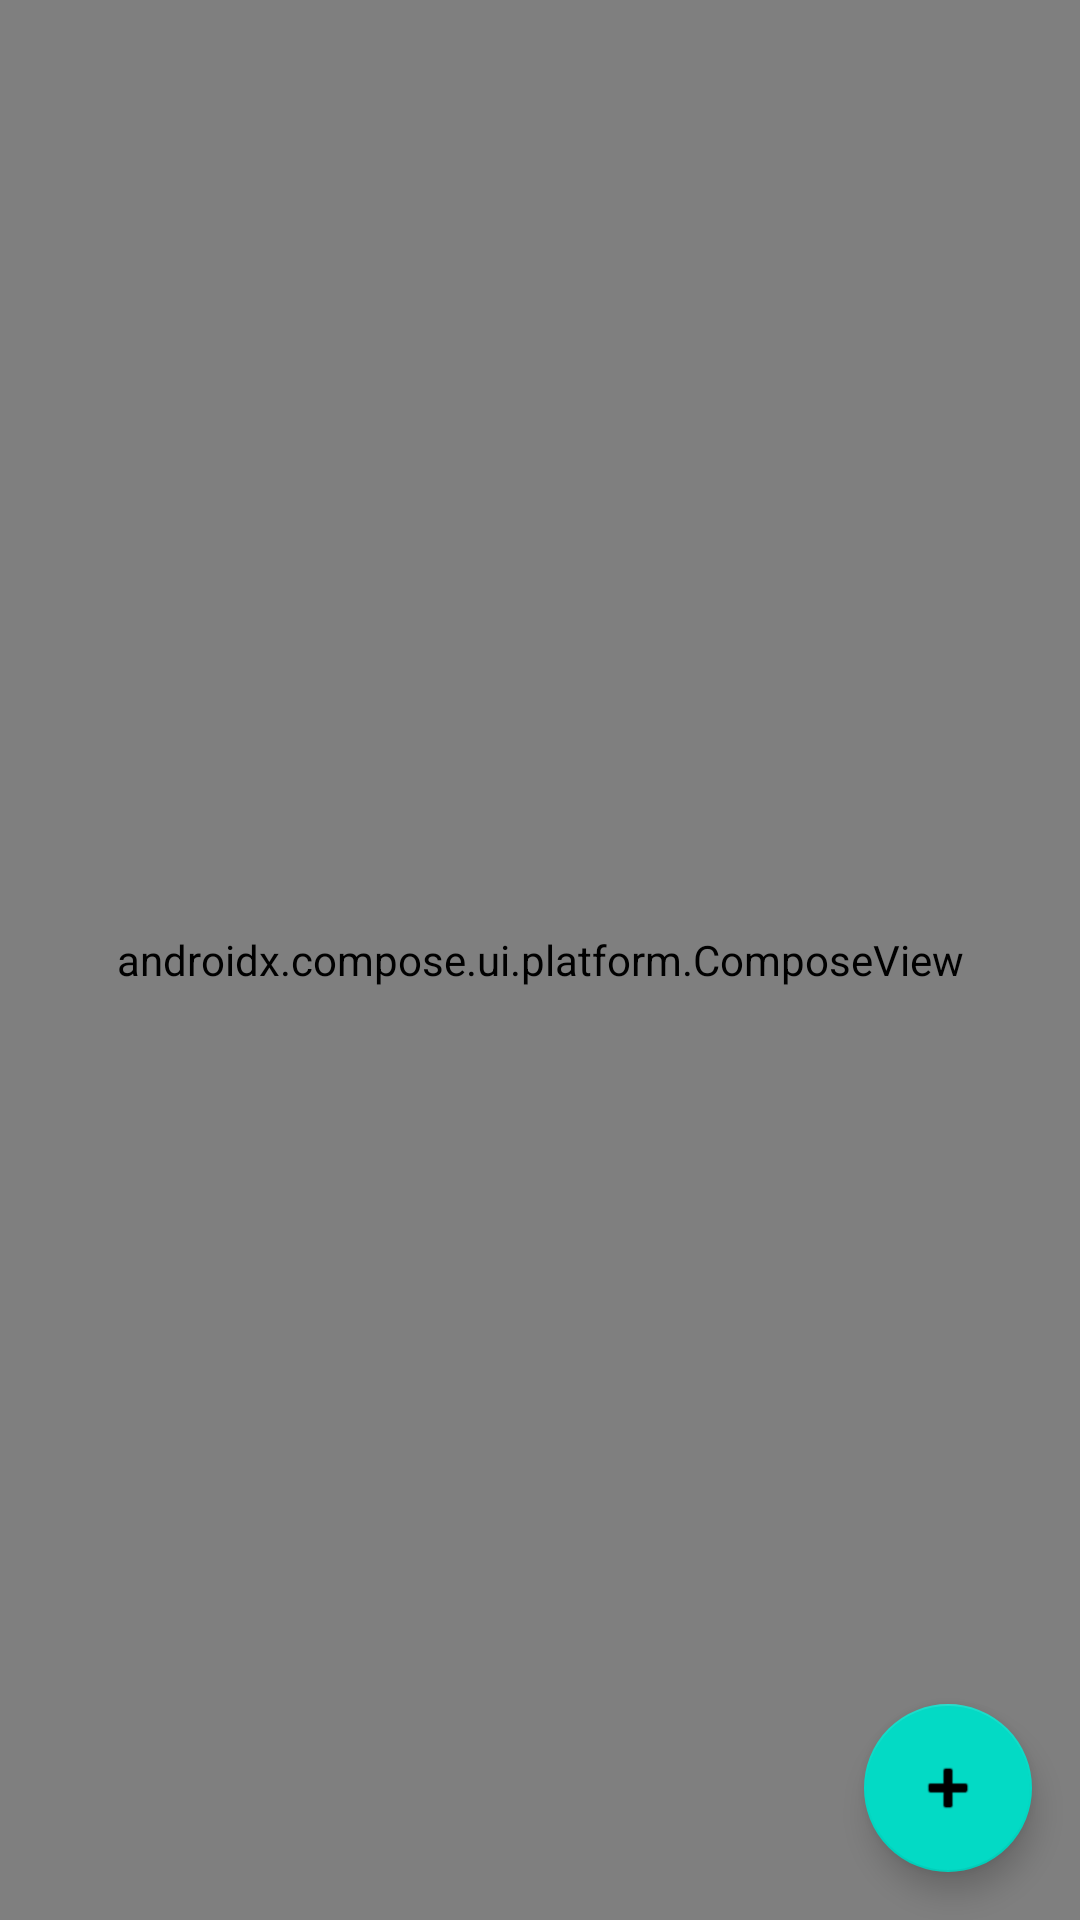

Named icons in this screenshot (1080*1920) and their bounding boxes, (left=x1, top=y1, right=x2, bottom=y2):
Add new mood: (left=864, top=1704, right=1032, bottom=1872)
